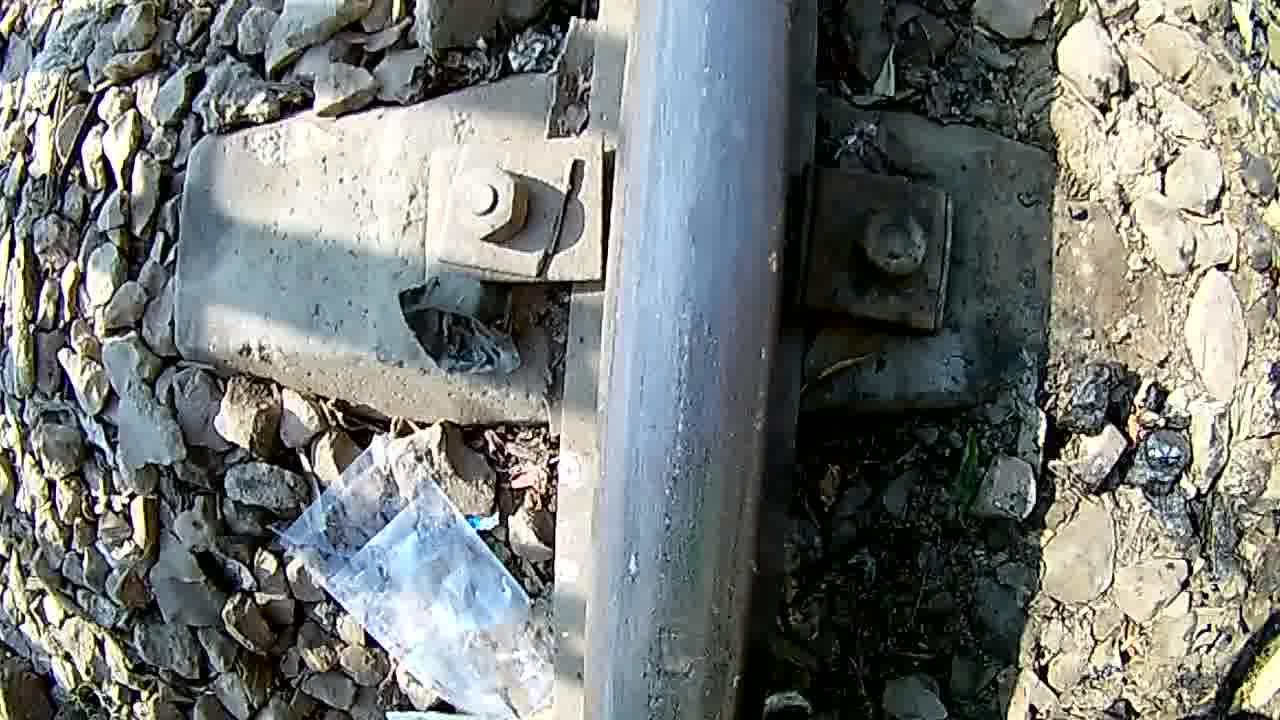bolt_missing: (611, 527, 746, 720)
